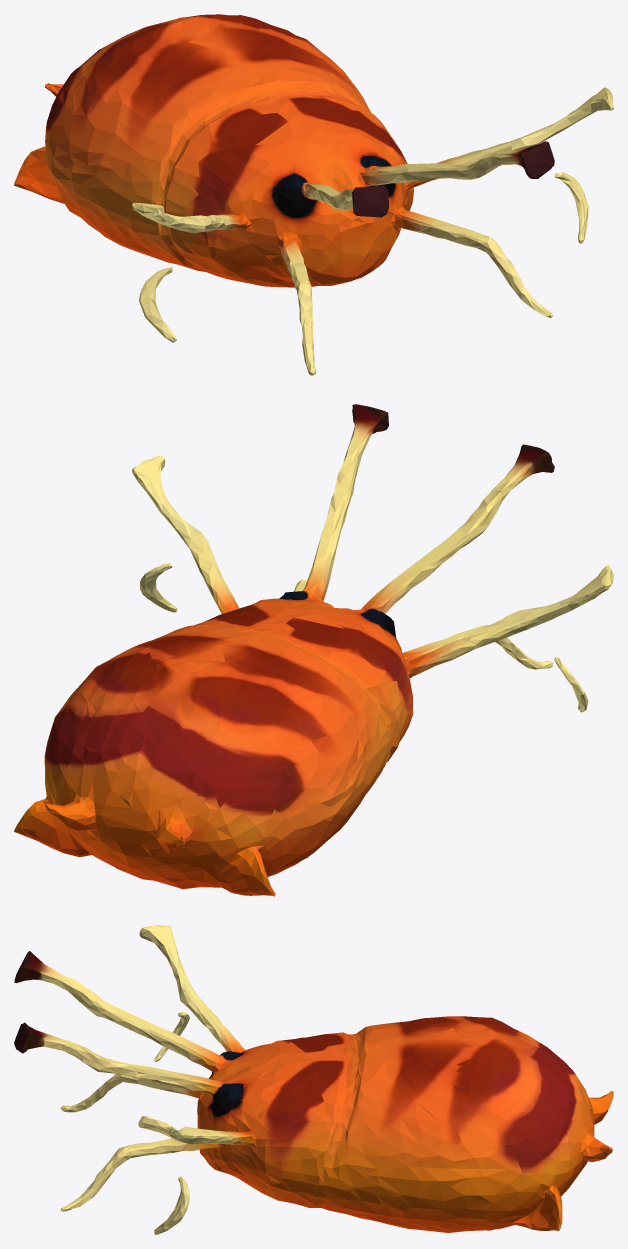
The model's file is prop-bacteria.glb.
3 renders of one model, top to bottom at view 1: azimuth 30°, elevation 25°; view 2: azimuth 150°, elevation 25°; view 3: azimuth 270°, elevation 25°, orthographic. The views are drawn at different scales.
Parts seen in each view (by area): view 1: prop-bacteria_Mesh; view 2: prop-bacteria_Mesh; view 3: prop-bacteria_Mesh.
Part boxes in pixels (x1,y1,x2,y2): prop-bacteria_Mesh: (14, 14, 613, 375); prop-bacteria_Mesh: (14, 404, 613, 896); prop-bacteria_Mesh: (14, 925, 613, 1234).
Bounding box in the file's own units: 1.87 × 0.9565 × 2.35.
1 material, 1 textured.
